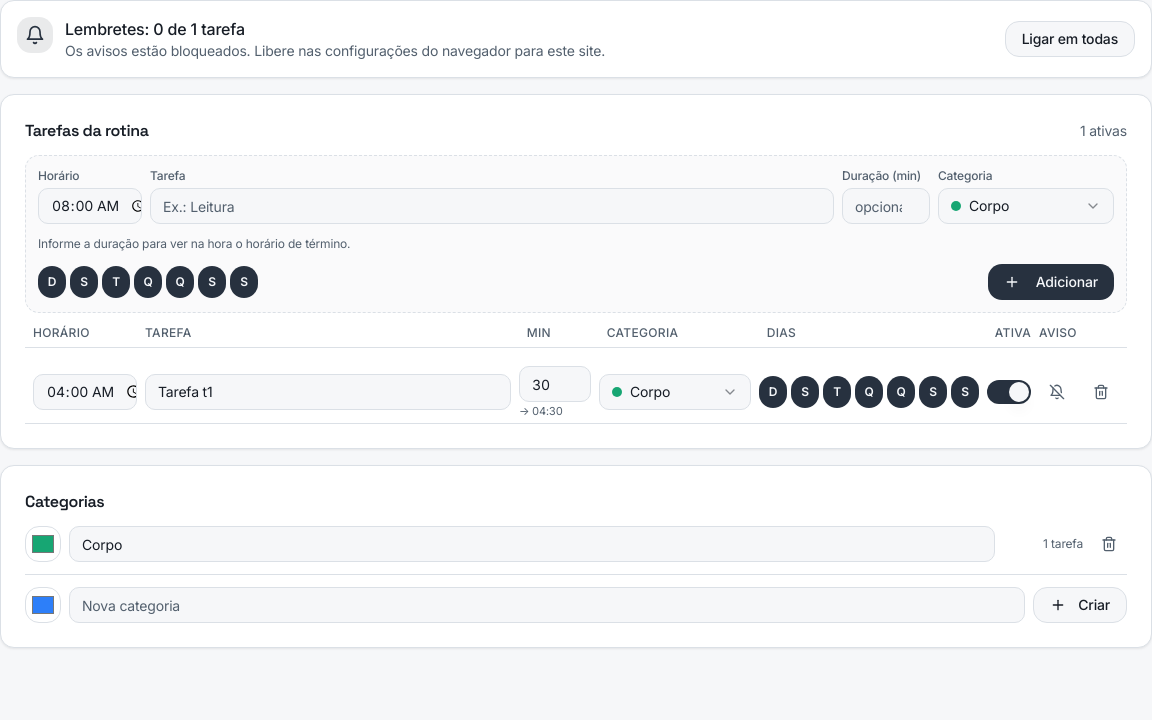
Test: término calculado ao informar a duração › calcula na hora enquanto a nova tarefa é digitada: 04:00 + 5 min = 04:05
Replace the text in the time field labelled "Horário" with "04:00" at (90, 206), box [38, 188, 142, 224]
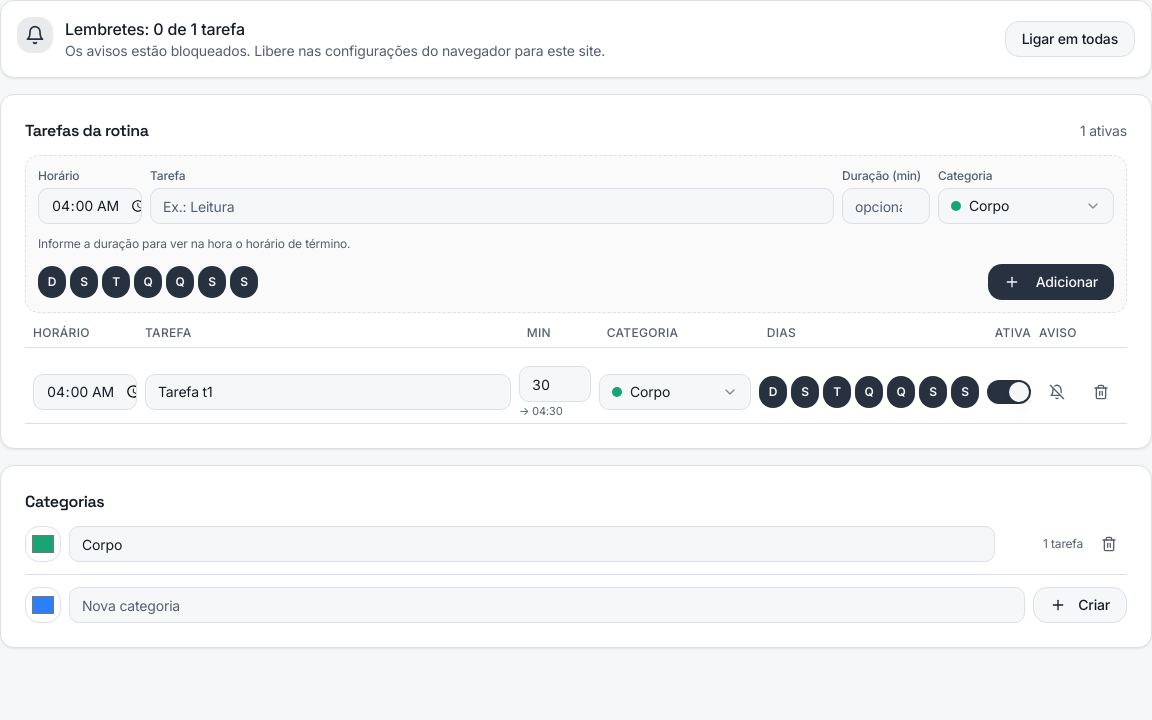
Type "5" into the number field labelled "Duração (min)".
click(886, 206); type("5")  # box [842, 188, 930, 224]
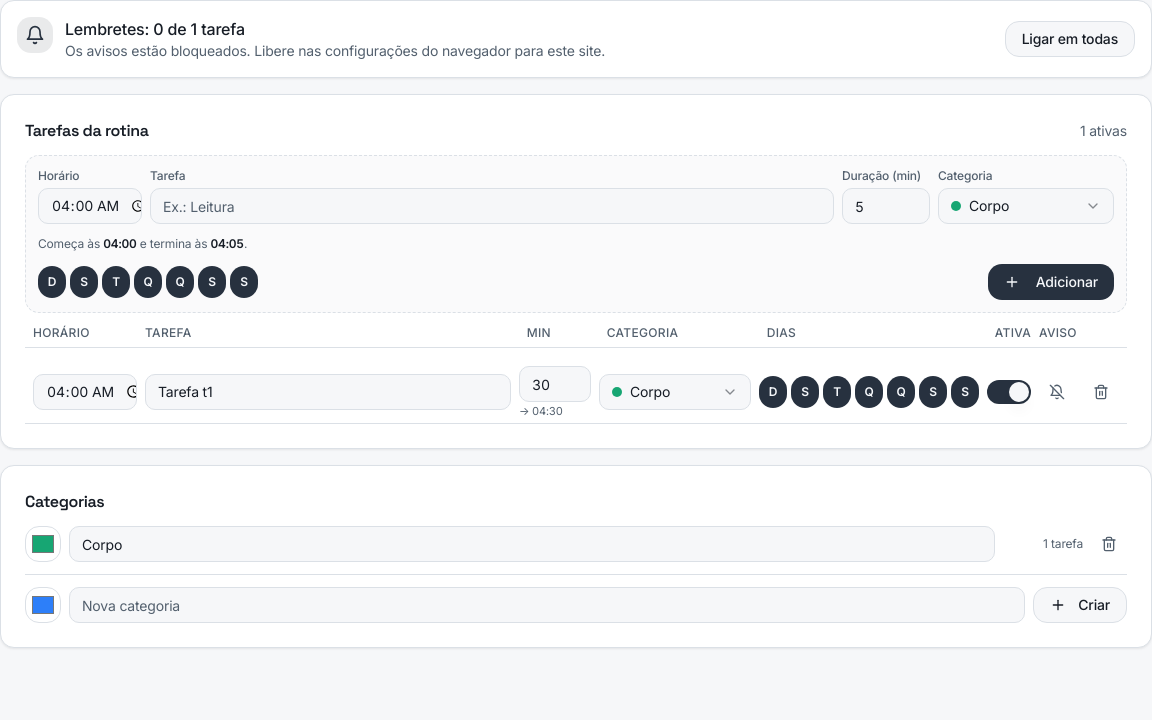
Now the message shows "Começa às 04:00 e termina às 04:05", box [38, 236, 247, 251]
